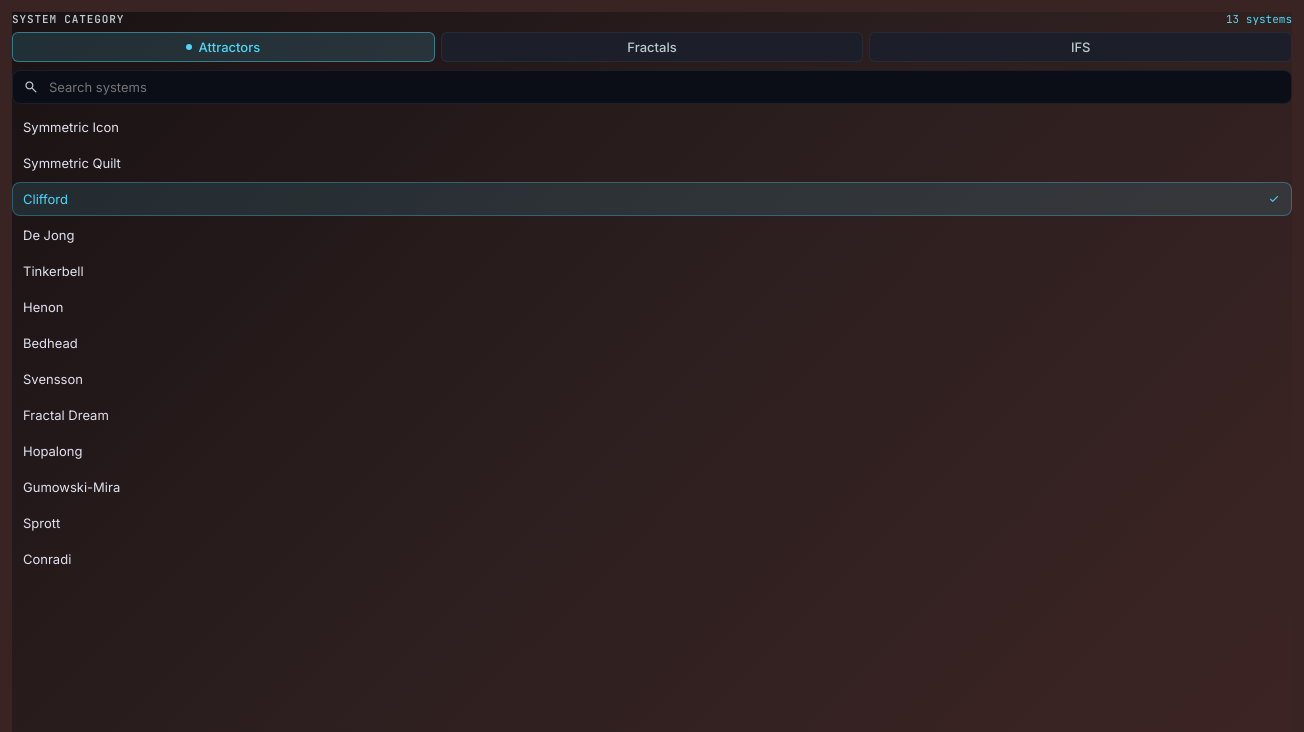
SystemPanel › search spans all categories
This screenshot has width=1304, height=732.
Type "mandel" into the search field labelled "Search systems" at (664, 87), box [47, 78, 1281, 96]
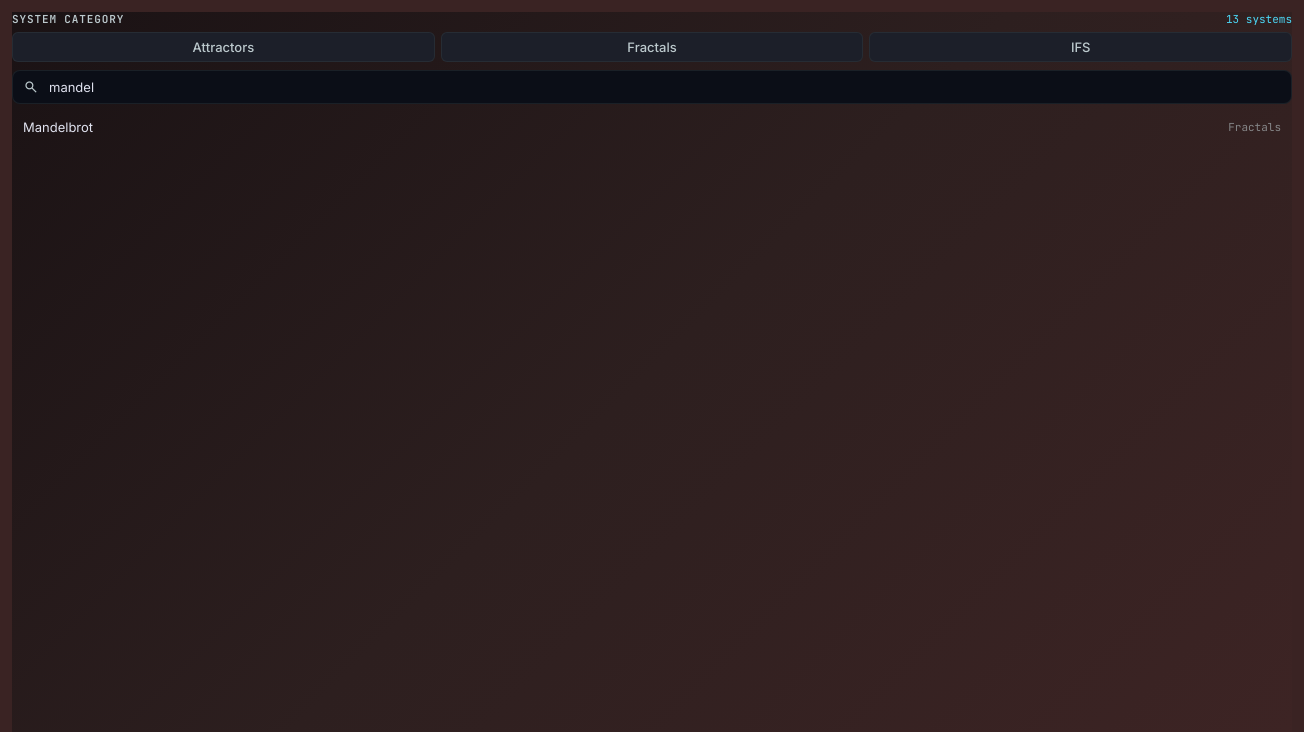
Now the button "Mandelbrot Fractals" is shown, box [12, 110, 1292, 144]
